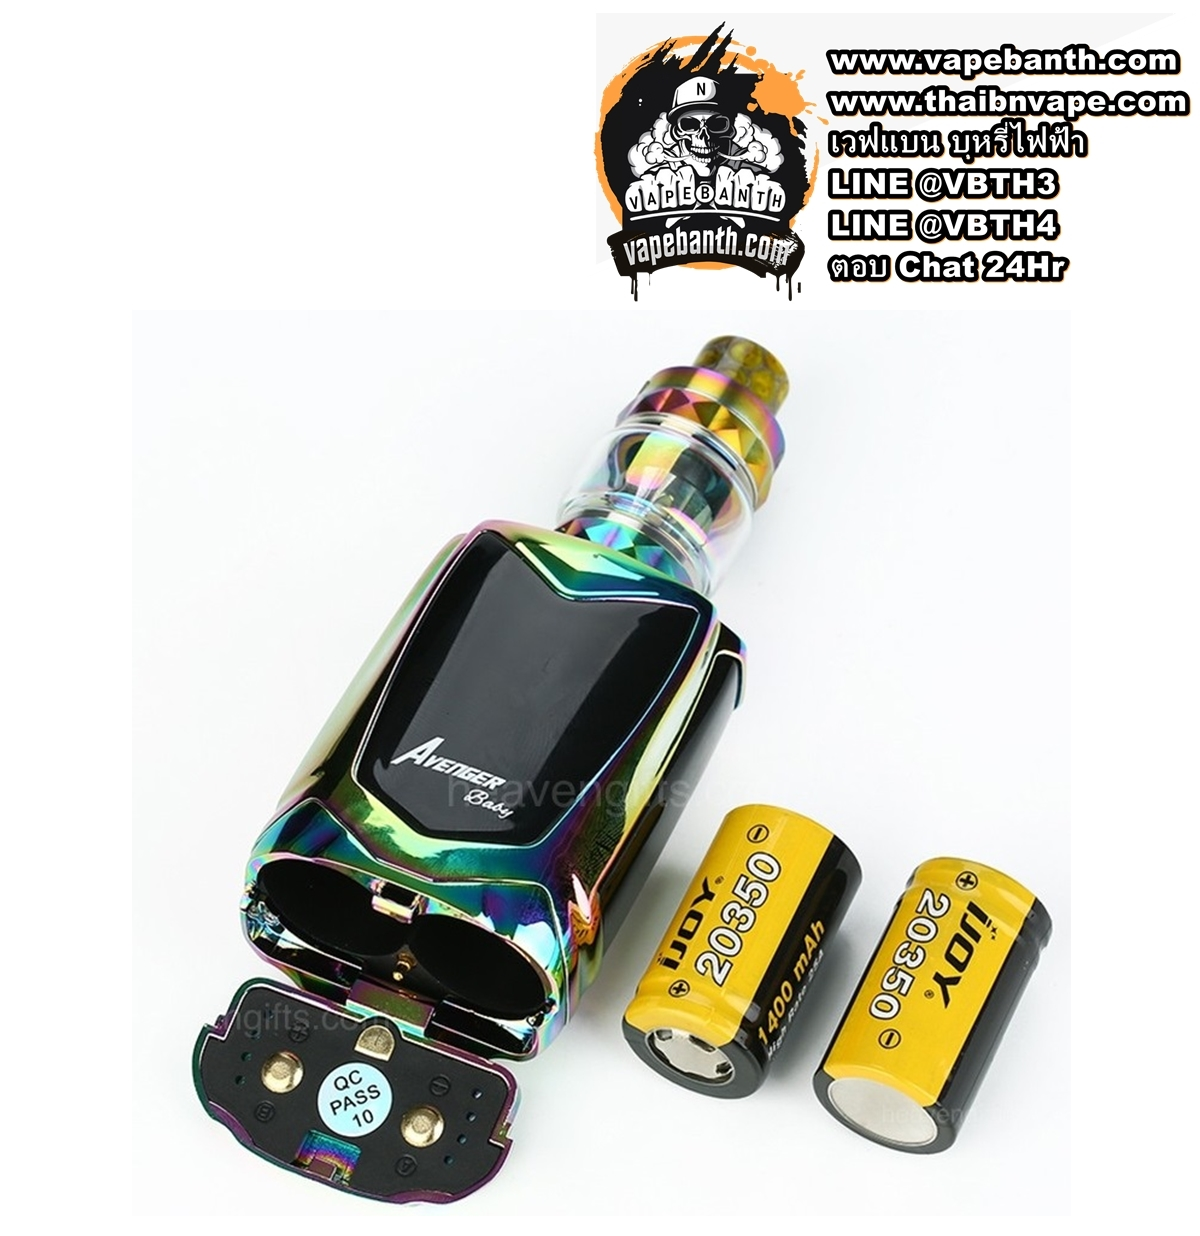Battery: (807, 849, 1060, 1161), (619, 798, 869, 1106)
